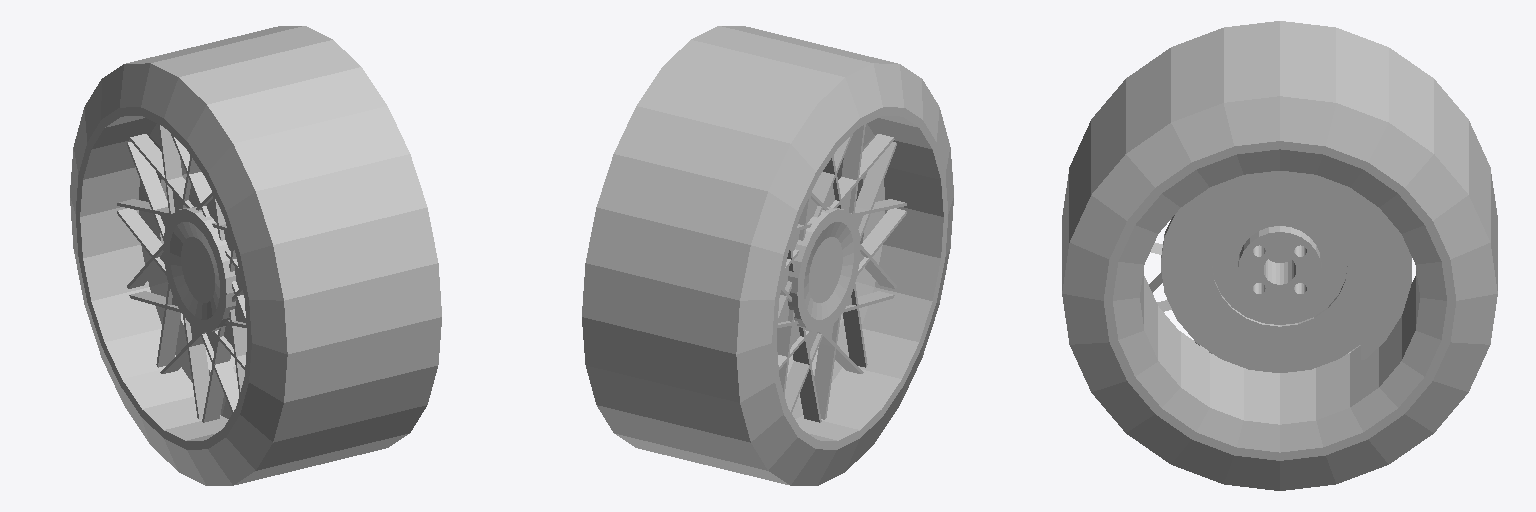
The model's file is wheel4.obj.
3 renders of one model, left to right at view 1: azimuth 30°, elevation 25°; view 2: azimuth 150°, elevation 25°; view 3: azimuth 270°, elevation 25°, orthographic.
Visible parts, largest first — view 1: Mesh4 Component_12_1 Component_109_1 Component_111_1 ske4DD9_1 M, Mesh3 Component_10_1 Component_109_1 Component_111_1 ske4DD9_1 M, Mesh5 Component_15_1 Component_111_1 ske4DD9_1 Model, Mesh6 Component_15_1 Component_111_1 ske4DD9_1 Model; view 2: Mesh4 Component_12_1 Component_109_1 Component_111_1 ske4DD9_1 M, Mesh3 Component_10_1 Component_109_1 Component_111_1 ske4DD9_1 M, Mesh5 Component_15_1 Component_111_1 ske4DD9_1 Model, Mesh6 Component_15_1 Component_111_1 ske4DD9_1 Model; view 3: Mesh4 Component_12_1 Component_109_1 Component_111_1 ske4DD9_1 M, Mesh3 Component_10_1 Component_109_1 Component_111_1 ske4DD9_1 M, Mesh2 Component_17_1 Component_18_1 Disco_de_freno1 ske4DD9_1 Mo, Mesh1 Component_16_1 Component_18_1 Disco_de_freno1 ske4DD9_1 Mo.
Boxes of the visible parts, <box> form: Mesh4 Component_12_1 Component_109_1 Component_111_1 ske4DD9_1 M: <box>70,26,441,485</box>; Mesh3 Component_10_1 Component_109_1 Component_111_1 ske4DD9_1 M: <box>76,107,251,449</box>; Mesh5 Component_15_1 Component_111_1 ske4DD9_1 Model: <box>117,124,246,422</box>; Mesh6 Component_15_1 Component_111_1 ske4DD9_1 Model: <box>163,207,235,331</box>; Mesh4 Component_12_1 Component_109_1 Component_111_1 ske4DD9_1 M: <box>582,26,953,485</box>; Mesh3 Component_10_1 Component_109_1 Component_111_1 ske4DD9_1 M: <box>772,107,947,449</box>; Mesh5 Component_15_1 Component_111_1 ske4DD9_1 Model: <box>777,124,906,422</box>; Mesh6 Component_15_1 Component_111_1 ske4DD9_1 Model: <box>788,207,860,331</box>; Mesh4 Component_12_1 Component_109_1 Component_111_1 ske4DD9_1 M: <box>1062,21,1497,490</box>; Mesh3 Component_10_1 Component_109_1 Component_111_1 ske4DD9_1 M: <box>1104,141,1455,460</box>; Mesh2 Component_17_1 Component_18_1 Disco_de_freno1 ske4DD9_1 Mo: <box>1161,171,1360,372</box>; Mesh1 Component_16_1 Component_18_1 Disco_de_freno1 ske4DD9_1 Mo: <box>1361,195,1411,359</box>.
Size of the model in its own units: 0.3412 by 0.6984 by 0.6984.